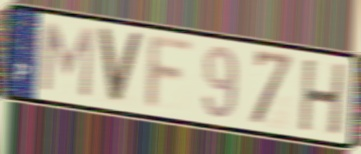7: (249, 48, 295, 129)
9: (200, 44, 238, 123)
F: (141, 32, 198, 114)
H: (296, 57, 349, 140)
M: (38, 19, 97, 102)
V: (95, 24, 146, 109)
